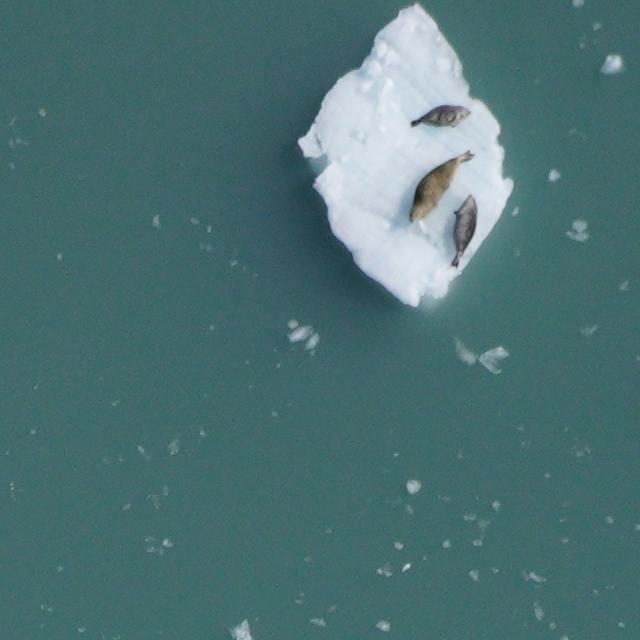seal: (405, 146, 476, 229), (448, 190, 482, 272), (405, 102, 476, 132)
